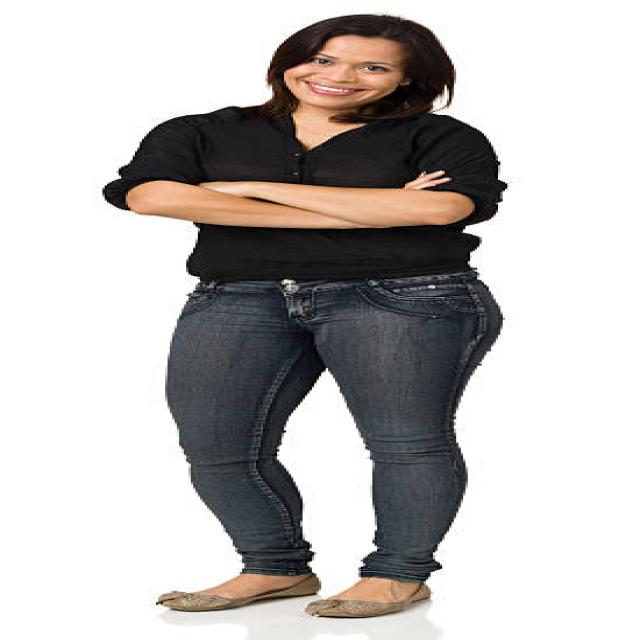Edited images: (87, 5, 537, 631)
